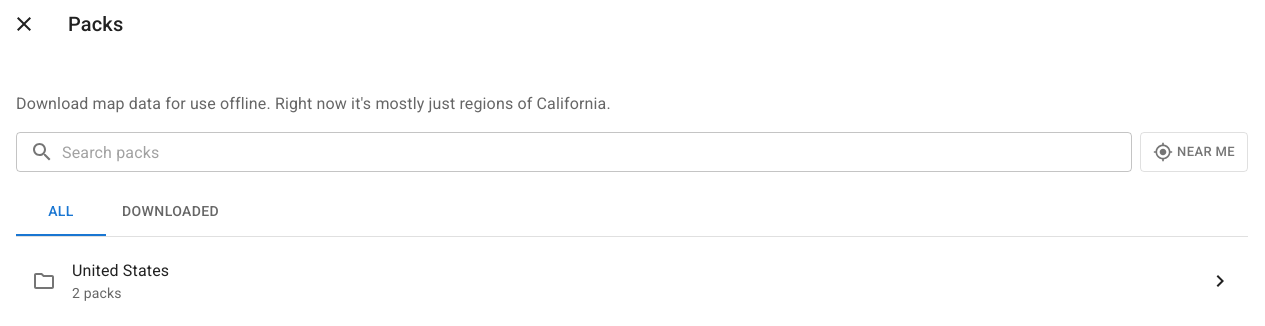
Scenario: Packs › searching › brings back the hierarchy when the search is cleared
This screenshot has width=1265, height=326.
Expected: the text "United States" is shown, [72,261,169,280]
Step 1. Type "berk" into the search field labelled "Search packs" → [597, 152], box [62,132,1132,172]
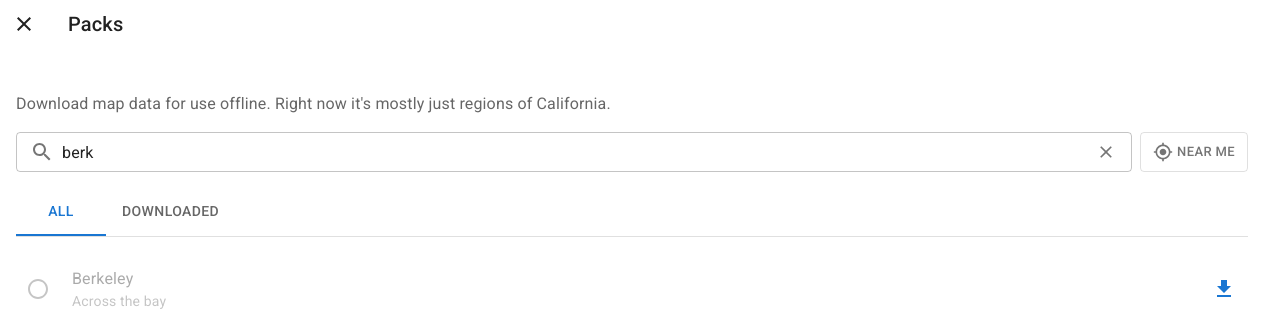
Now the text "Berkeley" is shown, box [72,269,133,288]
Step 2. Click the button named "Clear search" → [1106, 152], box [1091,137,1121,167]
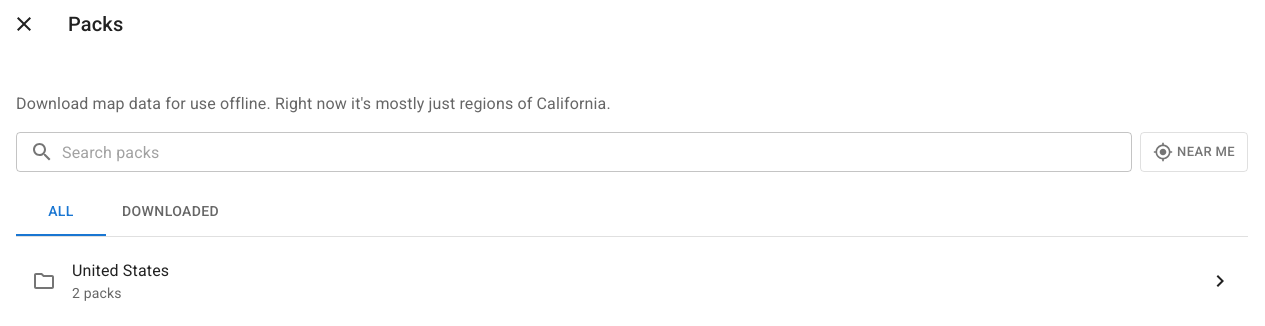
Now the text "United States" is shown, box [72,261,169,280]
Now the button "Berkeley" is gone
